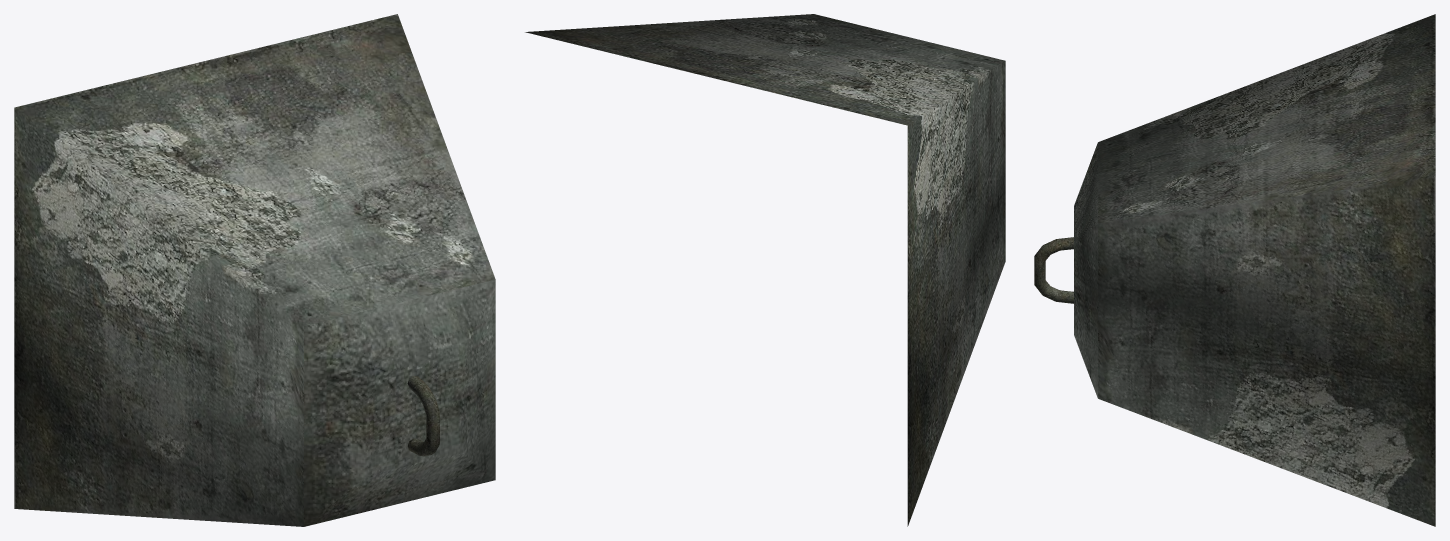
File: military_dragonstooth_d.glb
3 renders of one model, left to right at view 1: azimuth 30°, elevation 25°; view 2: azimuth 150°, elevation 25°; view 3: azimuth 270°, elevation 25°, orthographic. The views are drawn at different scales.
Bounding box in the file's own units: 64 × 64 × 66.56.
1 material, 1 textured.
